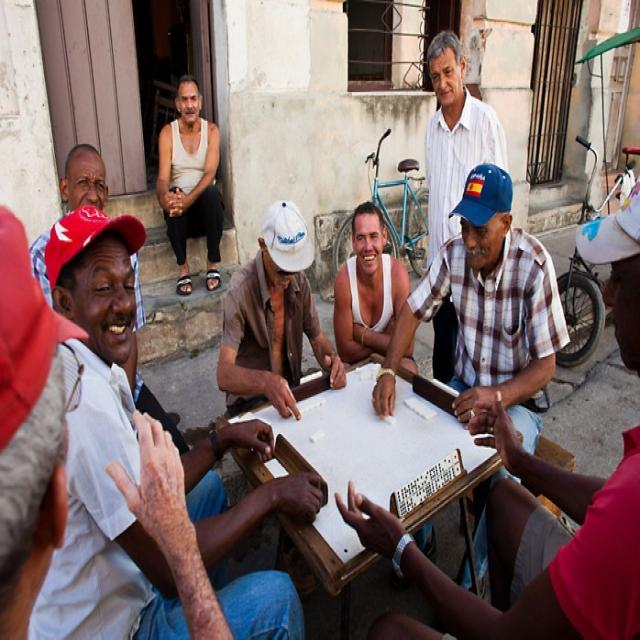body: (22, 200, 327, 640), (44, 203, 327, 640), (371, 170, 572, 604), (371, 161, 572, 593), (28, 141, 192, 452), (422, 26, 511, 385), (215, 196, 350, 423), (153, 73, 227, 298), (332, 199, 416, 367)
